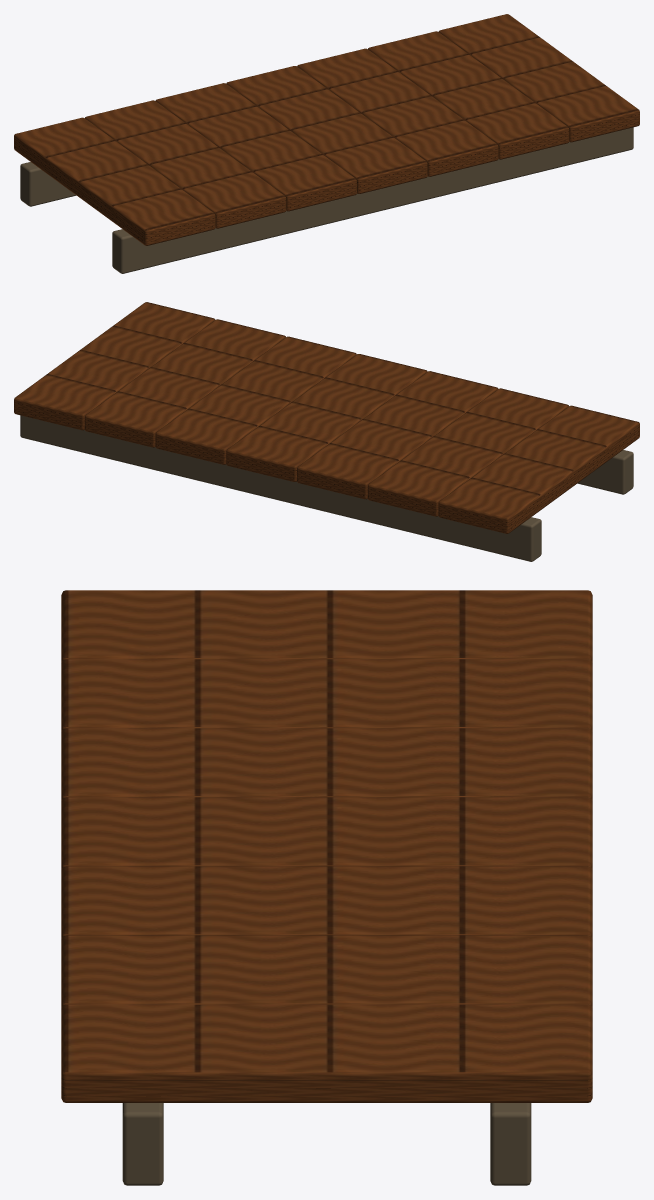
Rendered from undercity-sewers-and-thieves-den-plank-bridge-379c52f6__25045.glb.
3 renders of one model, top to bottom at view 1: azimuth 30°, elevation 25°; view 2: azimuth 150°, elevation 25°; view 3: azimuth 270°, elevation 25°, orthographic. The views are drawn at different scales.
Visible parts, largest first — view 1: plank-bridge; view 2: plank-bridge; view 3: plank-bridge.
Part boxes in pixels (box(x1,y1,x2,y2)): plank-bridge: box(14, 14, 639, 273); plank-bridge: box(14, 302, 639, 561); plank-bridge: box(61, 590, 592, 1185).
Size of the model in its own units: 2.9 by 0.29 by 1.3.
Materials: 2 (1 with a texture image).
